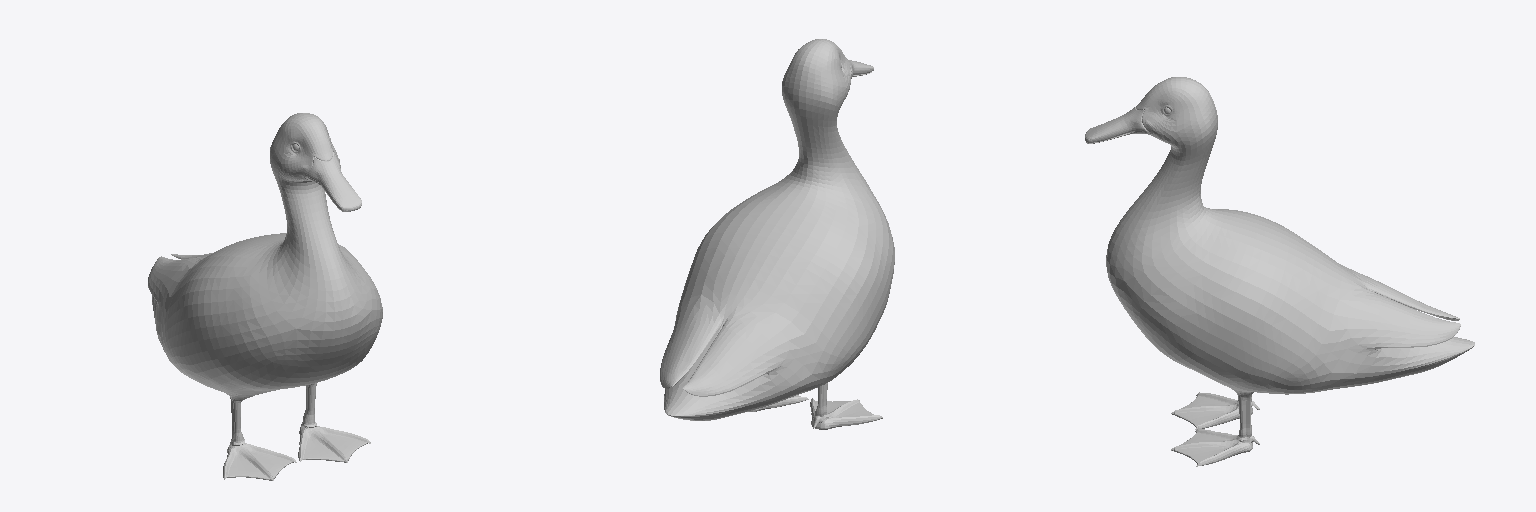
The model's file is bird.obj.
The picture shows the model from 3 angles: view 1: azimuth 30°, elevation 25°; view 2: azimuth 150°, elevation 25°; view 3: azimuth 270°, elevation 25°; orthographic projection.
Parts seen in each view (by area): view 1: 12248_Bird_v1_L2; view 2: 12248_Bird_v1_L2; view 3: 12248_Bird_v1_L2.
Part boxes in pixels (left/top/right/bottom): 12248_Bird_v1_L2: left=148, top=113, right=382, bottom=480; 12248_Bird_v1_L2: left=660, top=39, right=894, bottom=429; 12248_Bird_v1_L2: left=1085, top=77, right=1474, bottom=466.
Size of the model in its own units: 28.45 by 56.47 by 56.51.